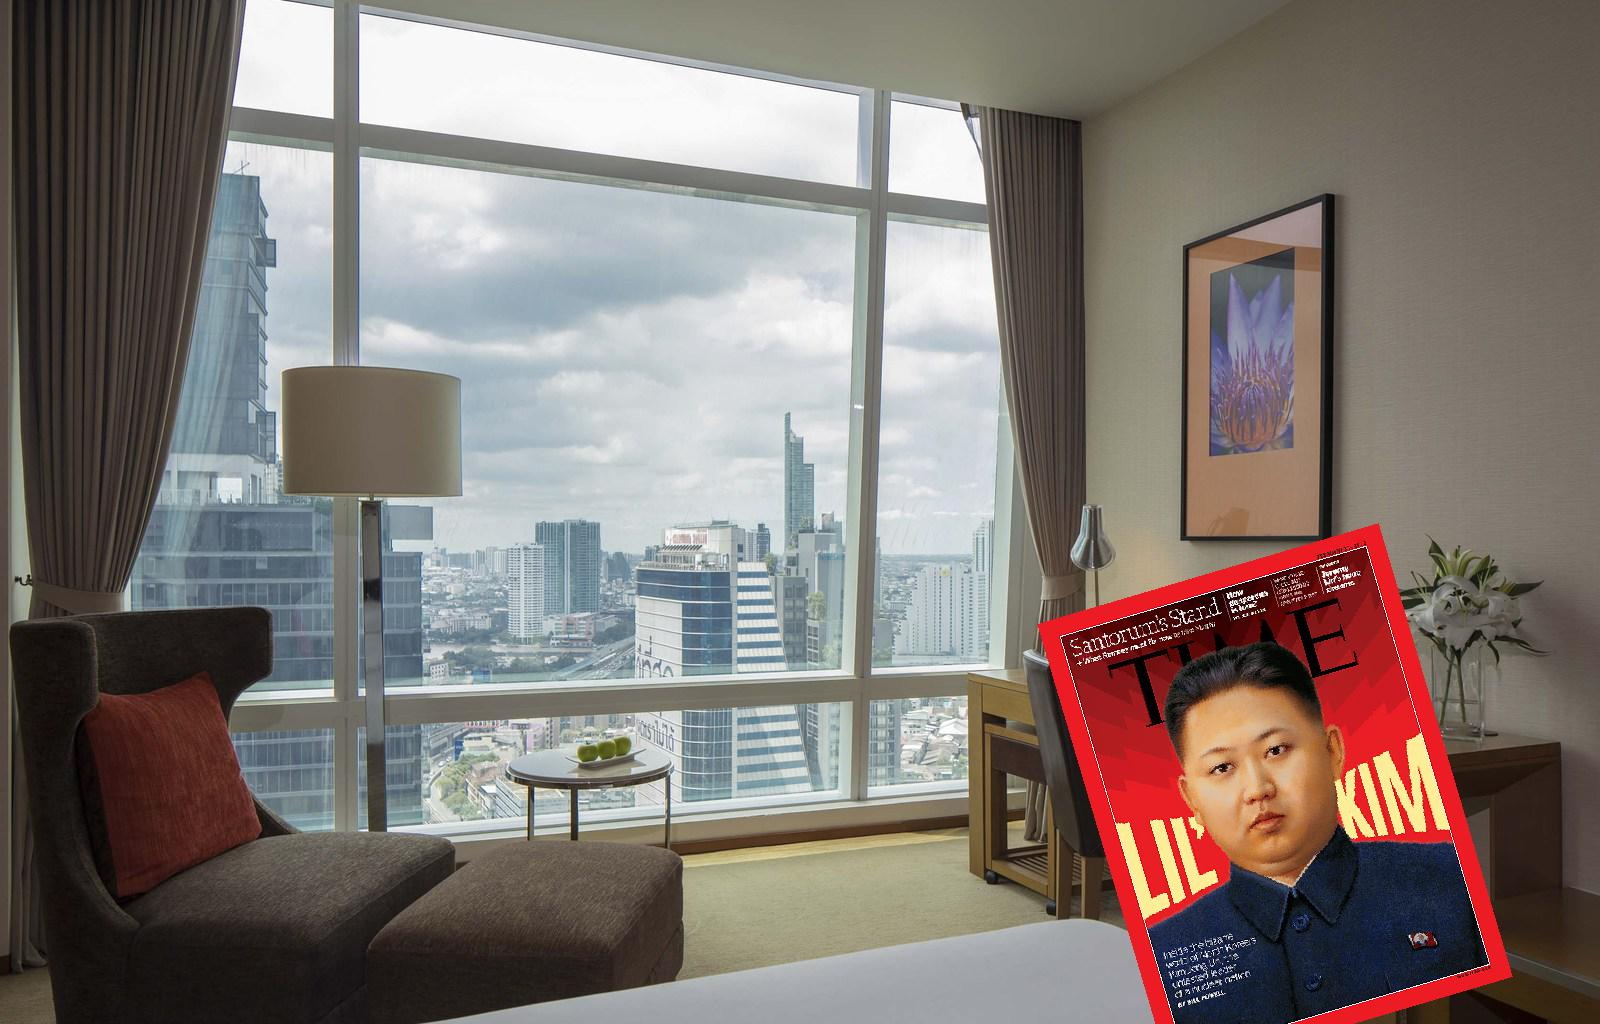times: (1037, 522, 1514, 1024)
